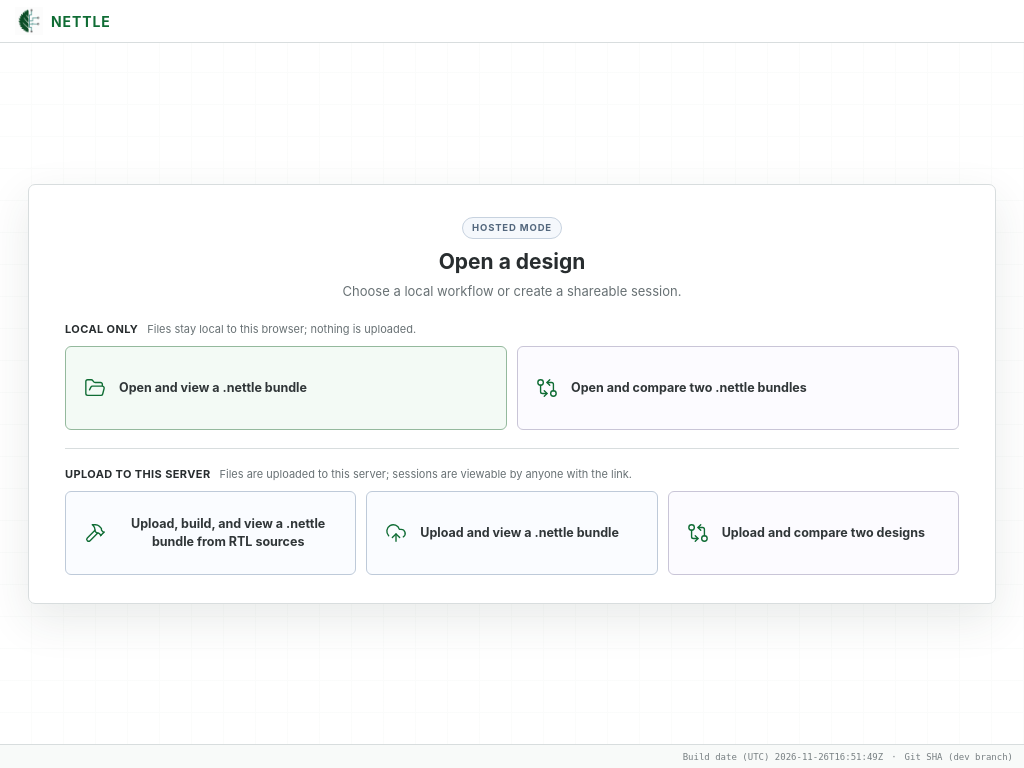
Test: App comparison installation › opens the hosted comparison upload dialog from the fifth landing action
What coordinates should you click on to do the following:
click the button "Upload and compare two designs"
I would click on:
 (813, 532)
Its box is [668,490,959,574].
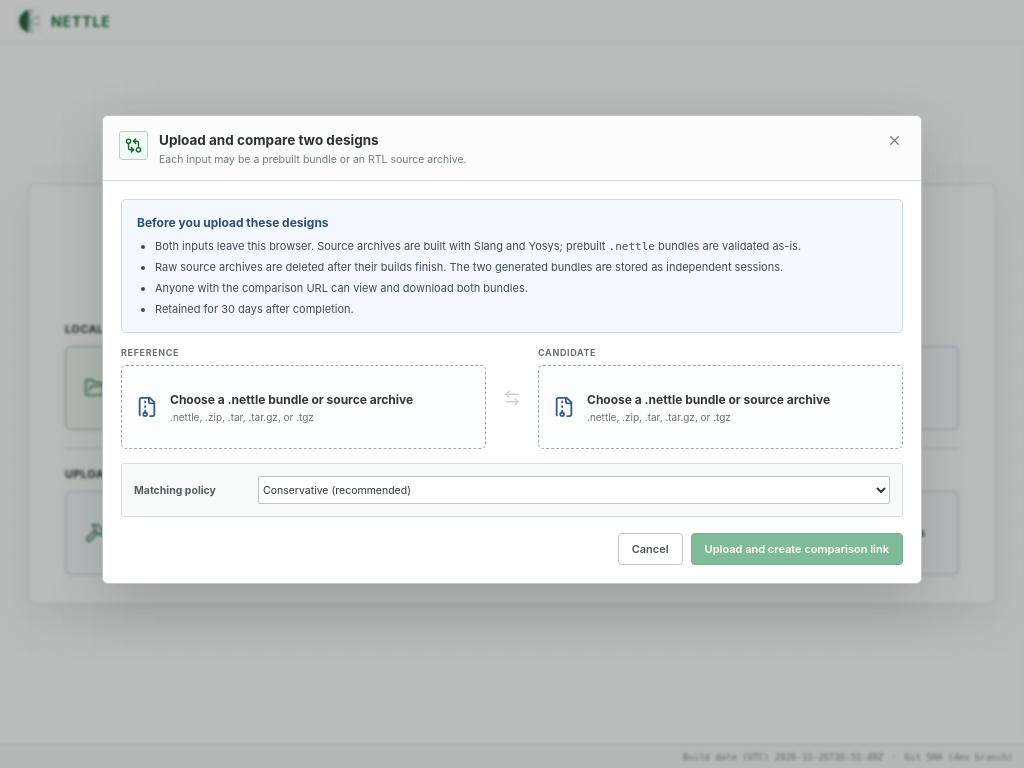
Result: the dialog "Upload and compare two designs" is shown at [102,115,922,584]
Result: the list item "Anyone with the comparison URL can view and download both bundles" is shown at [155,281,528,295]
